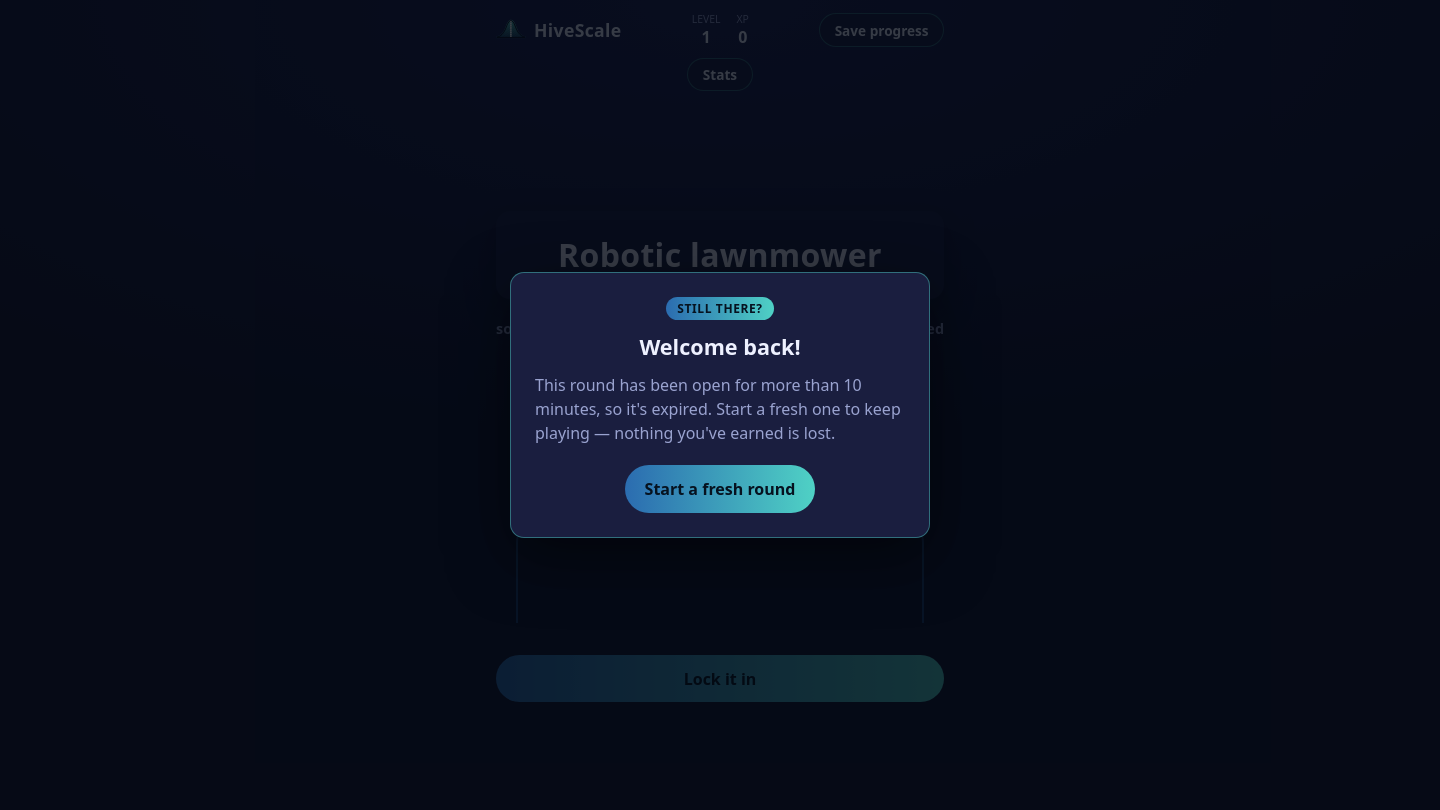
it: PlayScreen › prompts to start fresh when the player has been away past the round's life
Expected: the heading "Robotic lawnmower" is shown, [558, 233, 882, 276]
Expected: the heading "Welcome back!" is shown, [639, 332, 801, 361]
# The big friendly button deals a fresh round and dismisses the prompt.
Click the button "Start a fresh round" at (720, 489), box [625, 465, 815, 513]
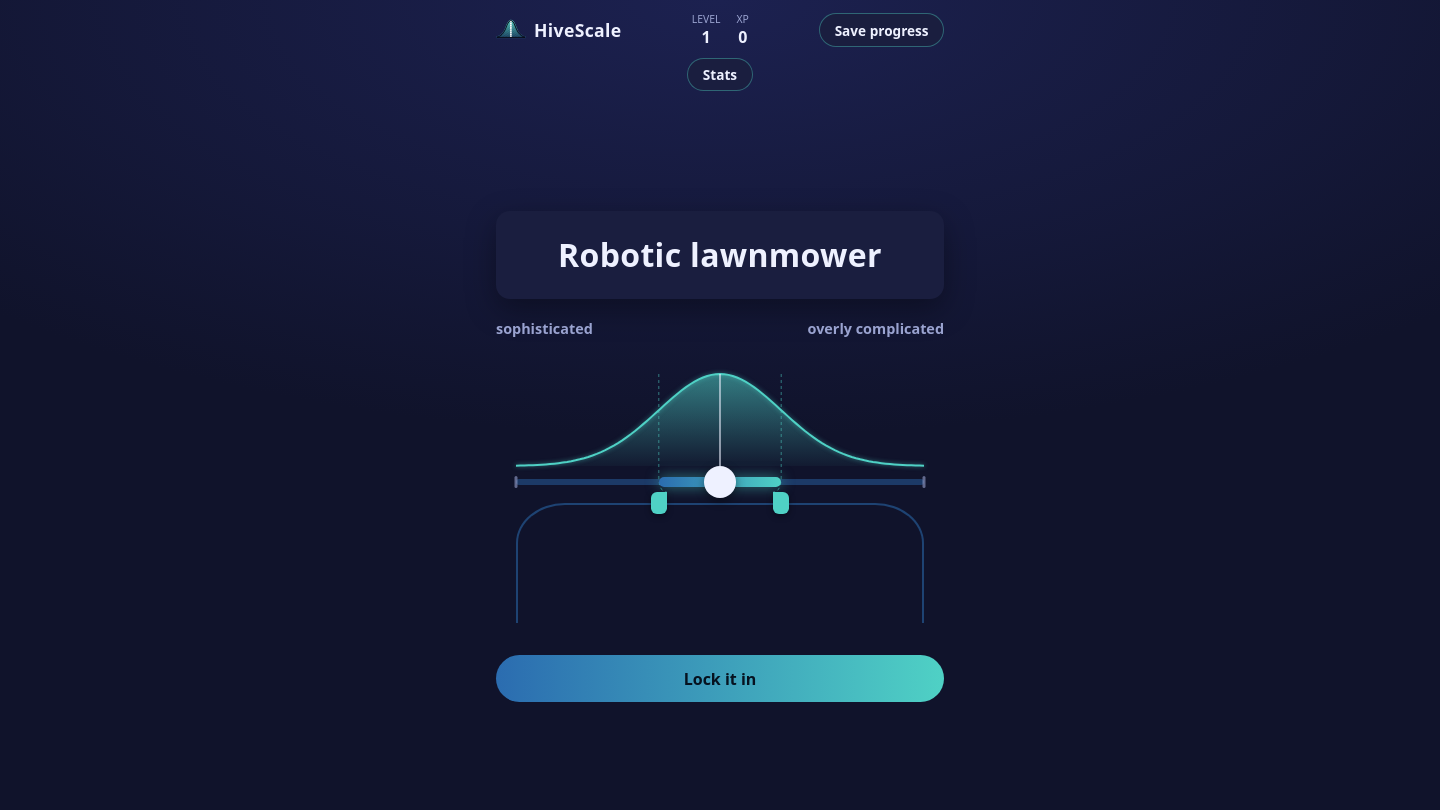
Expected: the button "Lock it in" is shown, [496, 655, 944, 702]
Expected: the dialog is gone
